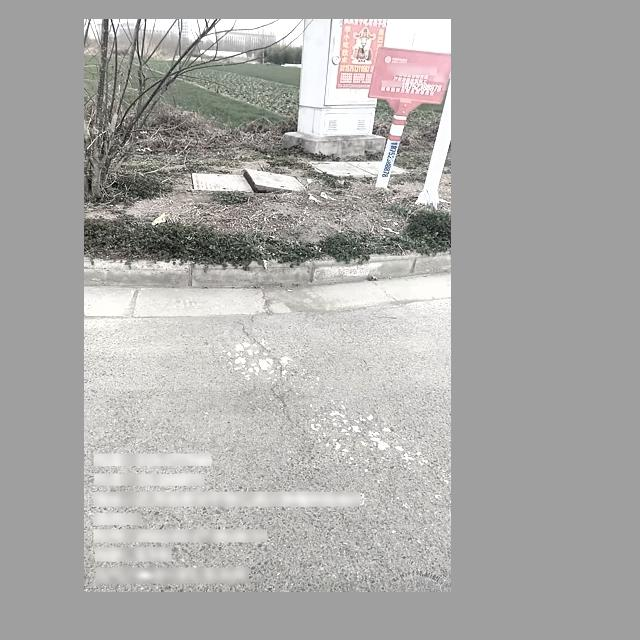uncovered: (188, 167, 307, 198)
